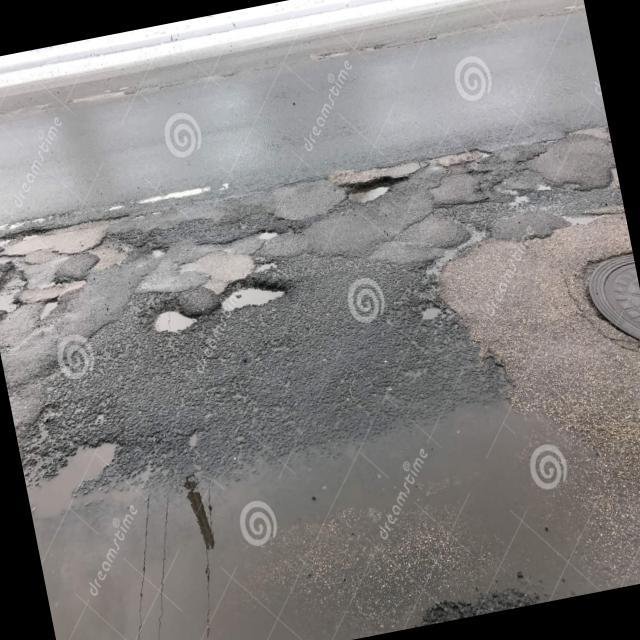Pothole: (208, 268, 298, 328), (336, 163, 408, 219), (554, 192, 616, 246), (147, 294, 205, 346), (0, 203, 52, 258), (0, 250, 36, 324), (409, 287, 456, 335), (252, 217, 286, 254), (31, 291, 66, 324), (146, 236, 170, 269)
